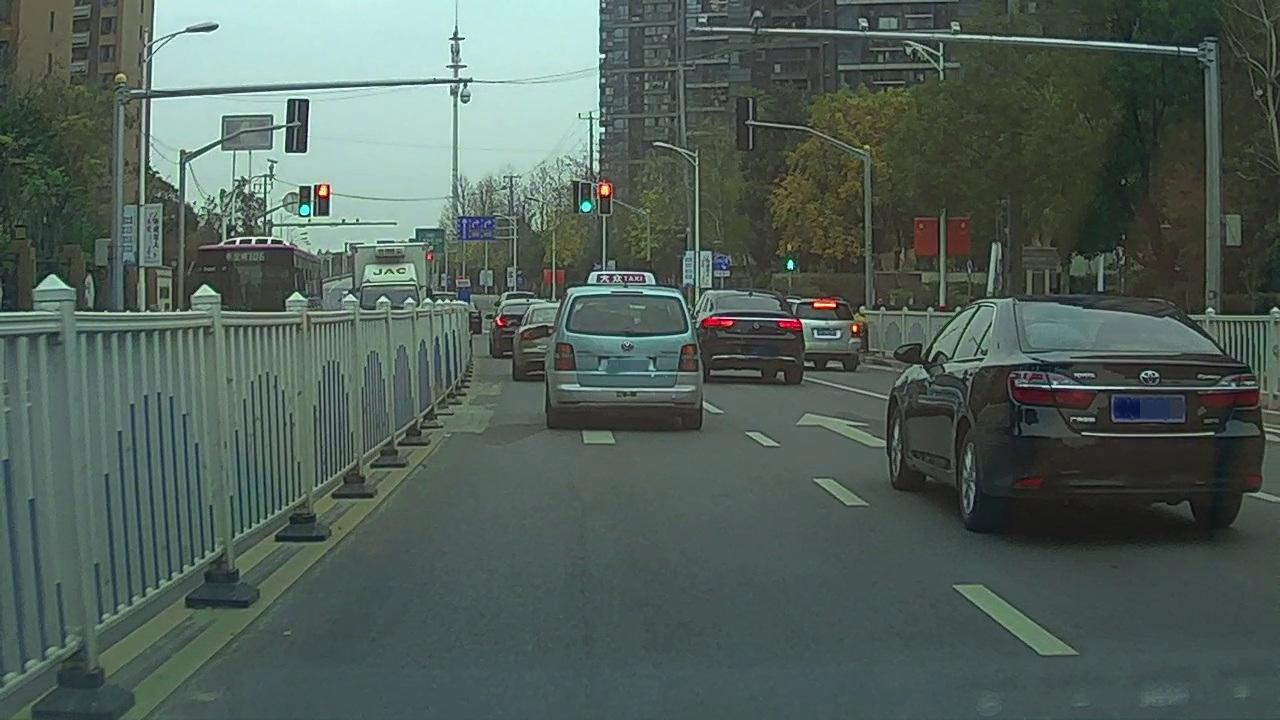traffic_light: (317, 185, 330, 213), (300, 185, 311, 218), (600, 184, 611, 213), (581, 183, 591, 214)
